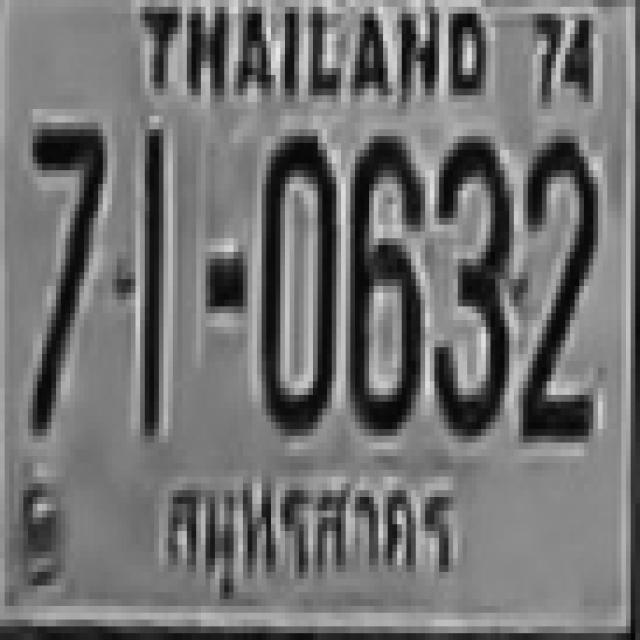0: (257, 129, 332, 429)
2: (519, 130, 593, 416)
3: (430, 133, 509, 432)
6: (346, 129, 420, 429)
7: (28, 119, 103, 419), (28, 123, 103, 381), (28, 123, 103, 313)
SamutSakhon: (151, 465, 469, 600)
